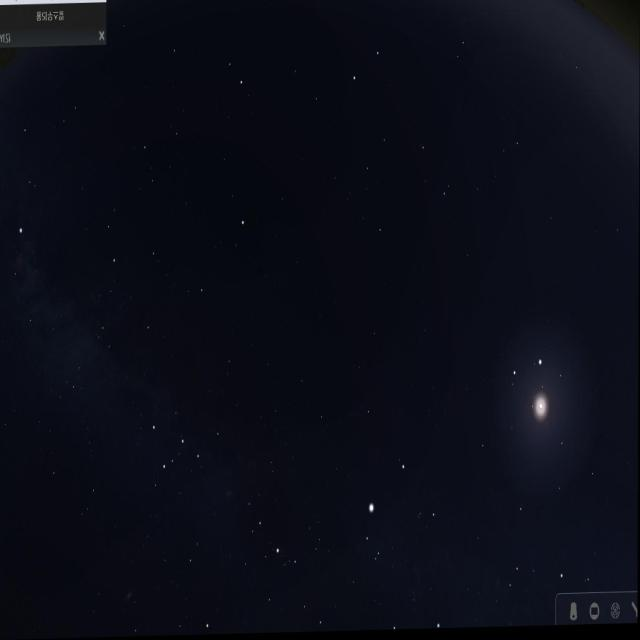cassiopeia: (151, 391, 231, 491)
moon: (524, 374, 563, 448)
